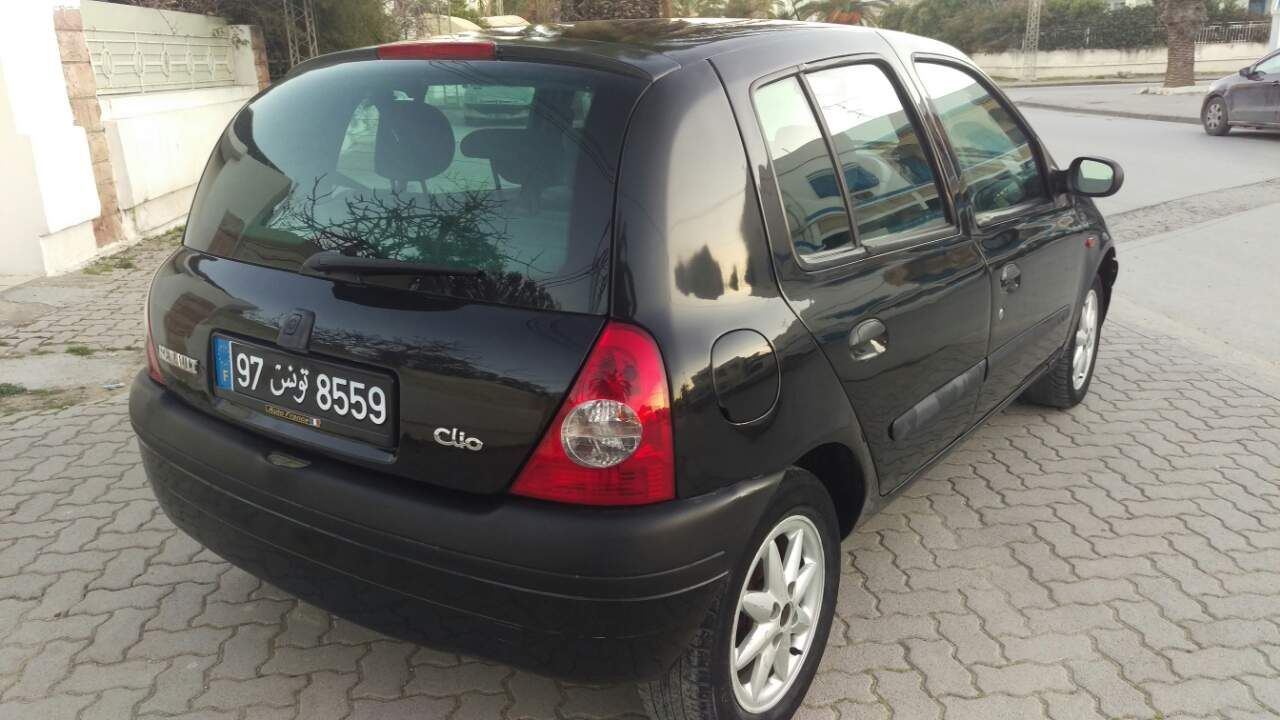LP: (229, 339, 395, 445)
